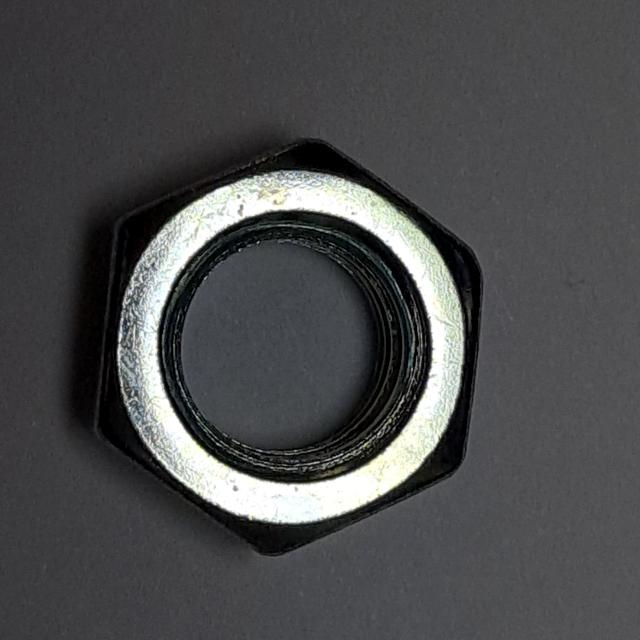Excellent: (87, 121, 496, 570)
